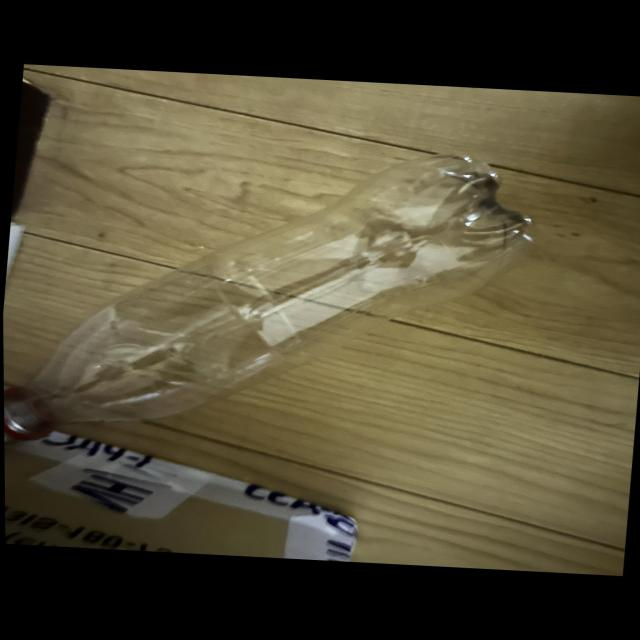empty: (5, 156, 530, 440)
